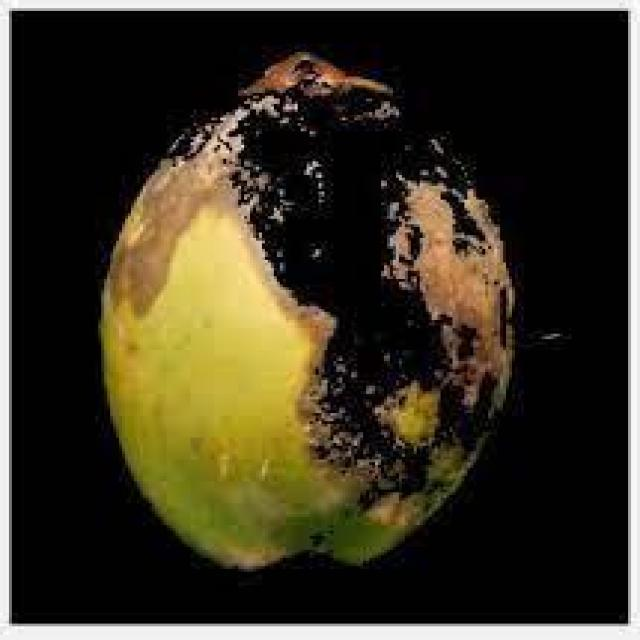damaged: (101, 55, 515, 574)
